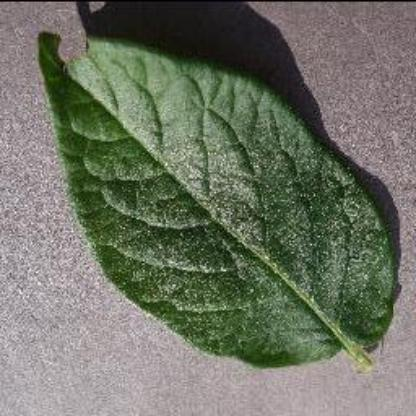Healthy-plant: (21, 14, 392, 378)
